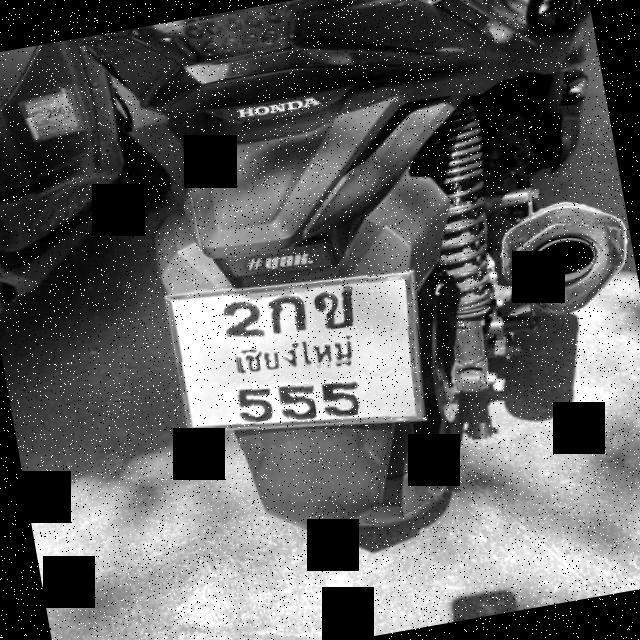letters: (227, 292, 269, 347), (268, 286, 310, 340), (316, 286, 358, 330), (234, 380, 274, 424), (282, 382, 317, 423), (324, 378, 358, 419)
license-plate: (165, 272, 424, 431)
province: (237, 332, 361, 387)
